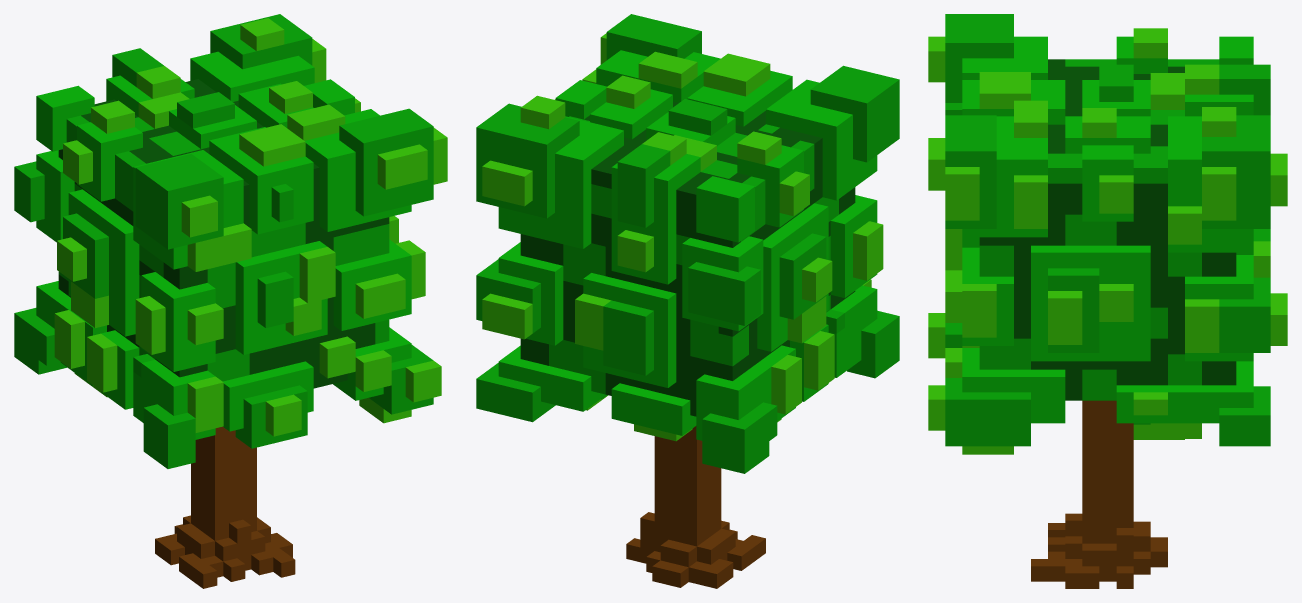
File: Tree_3.FBX
3 renders of one model, left to right at view 1: azimuth 30°, elevation 25°; view 2: azimuth 150°, elevation 25°; view 3: azimuth 270°, elevation 25°, orthographic. The views are drawn at different scales.
Visible parts, largest first — view 1: Low Poly Tree; view 2: Low Poly Tree; view 3: Low Poly Tree.
Boxes of the visible parts, x1=… form: Low Poly Tree: x1=14, y1=14, x2=447, y2=588; Low Poly Tree: x1=476, y1=14, x2=899, y2=588; Low Poly Tree: x1=928, y1=14, x2=1287, y2=588.
Bounding box in the file's own units: 827 × 1260 × 827.
Materials: 1 (1 with a texture image).
